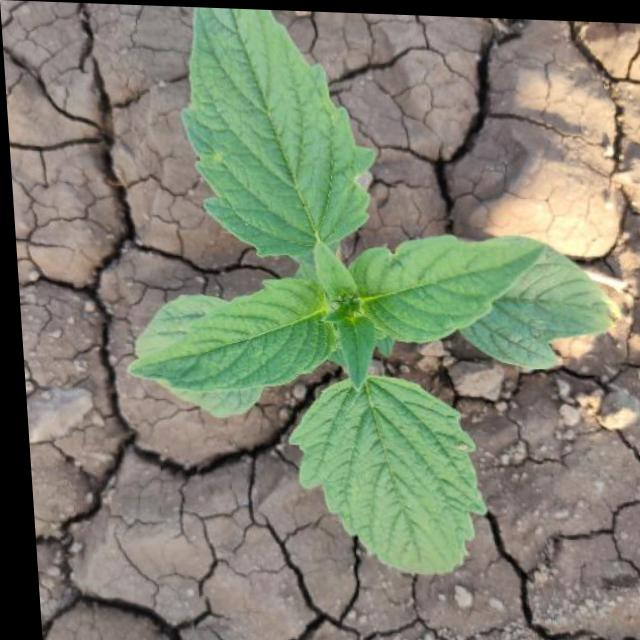crop: (93, 4, 627, 578)
